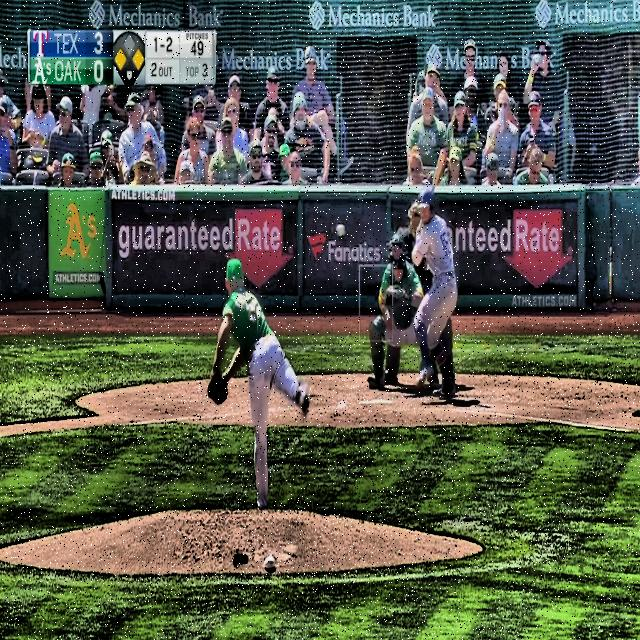baseball: (336, 222, 346, 239)
